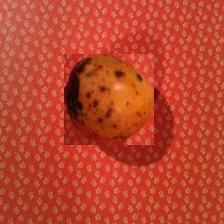Mango Semirotten: (65, 54, 156, 145)
